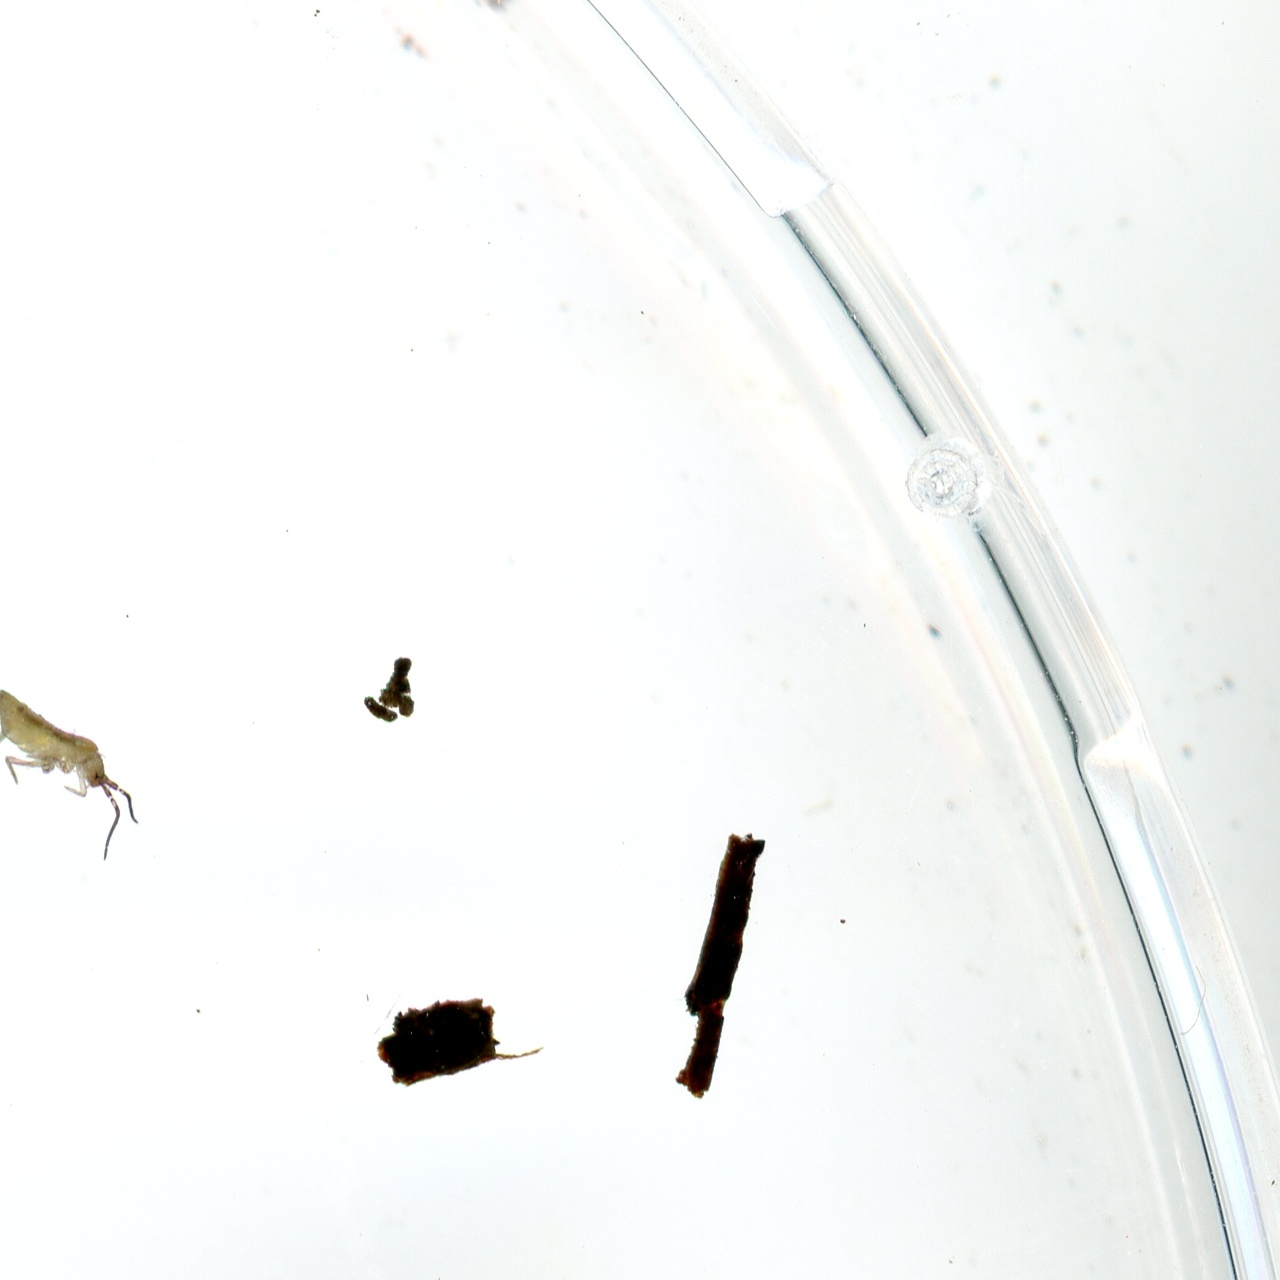arthropod: (0, 667, 170, 870)
